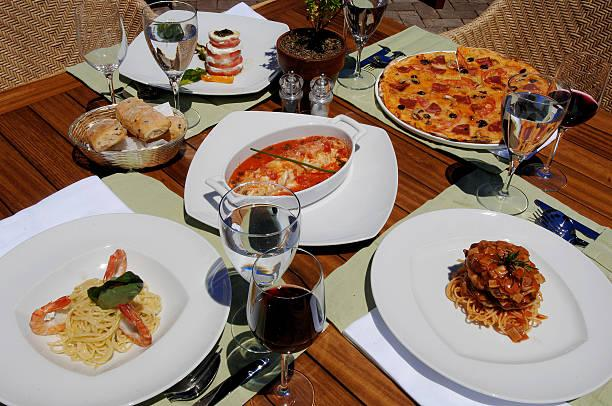Braised Crucian Carp: (368, 207, 611, 400), (0, 211, 231, 404), (181, 112, 398, 246), (376, 48, 560, 151)
